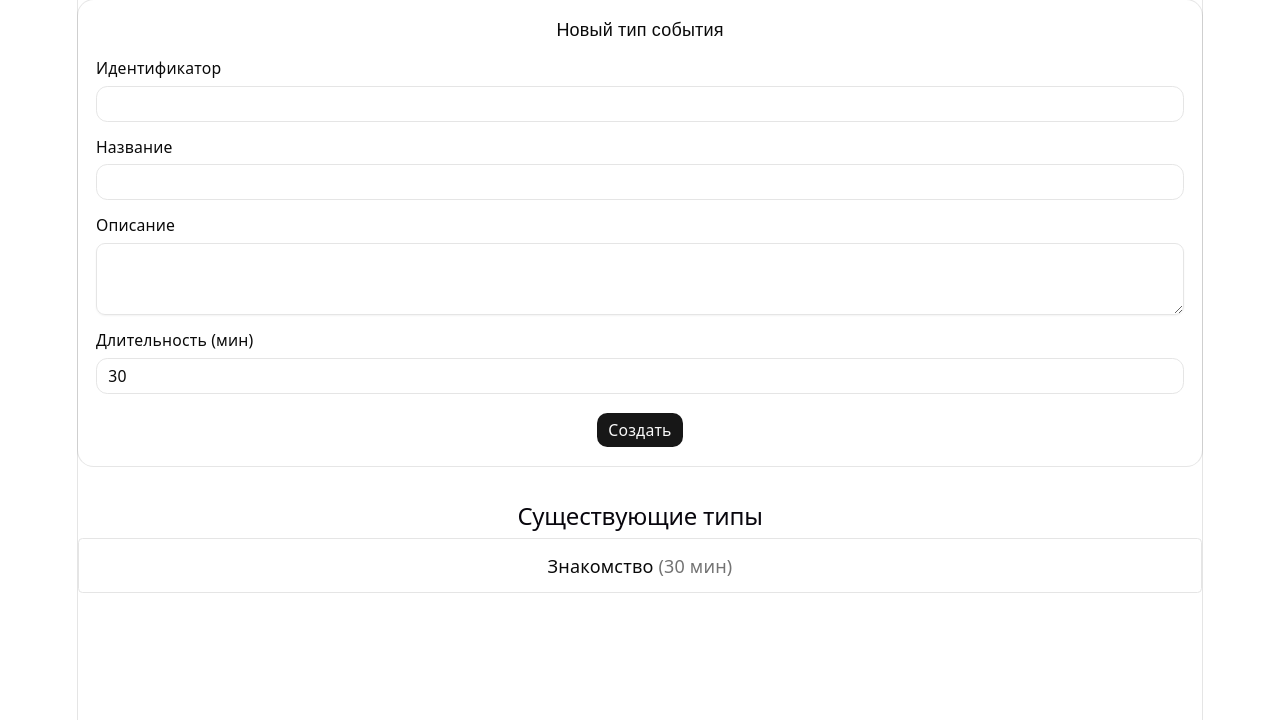
Test: OwnerEventTypesPage › creates a new event type and shows a success toast
In the field labelled "Идентификатор": [640, 104] box x1=96 y1=86 x2=1184 y2=122, type "demo-call"
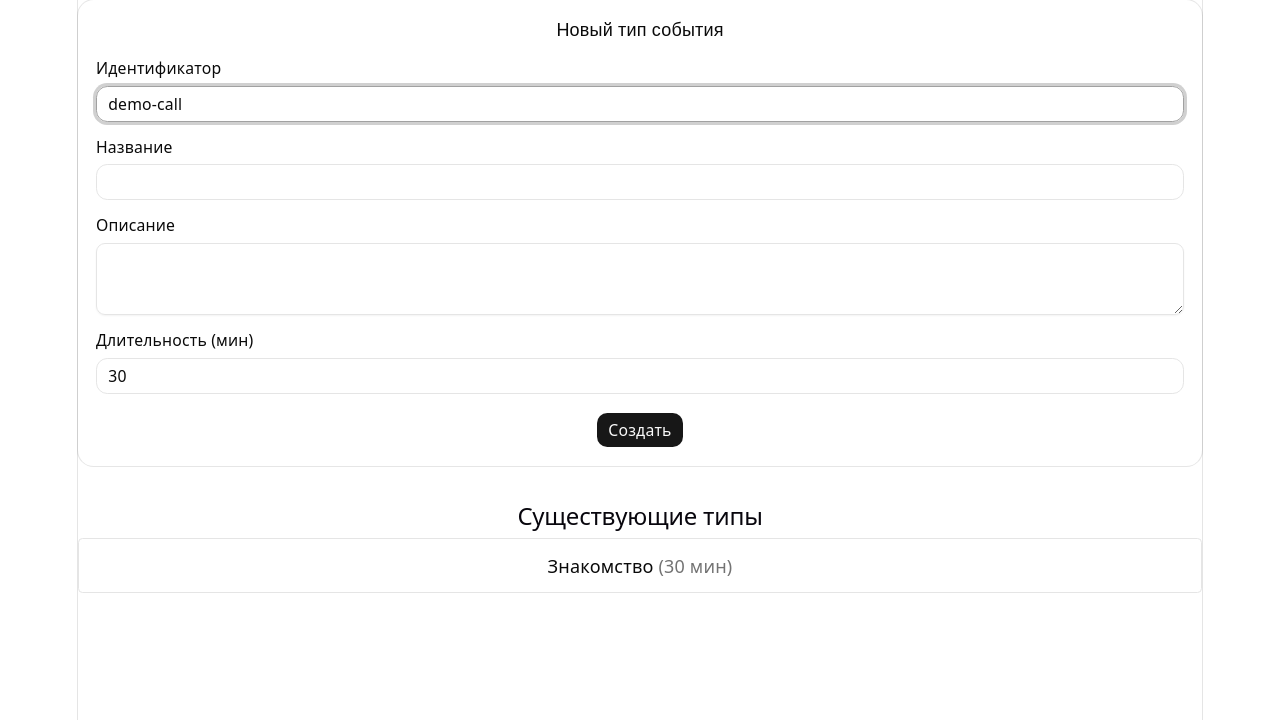
In the field labelled "Название": [640, 182] box x1=96 y1=164 x2=1184 y2=200, type "Демо"
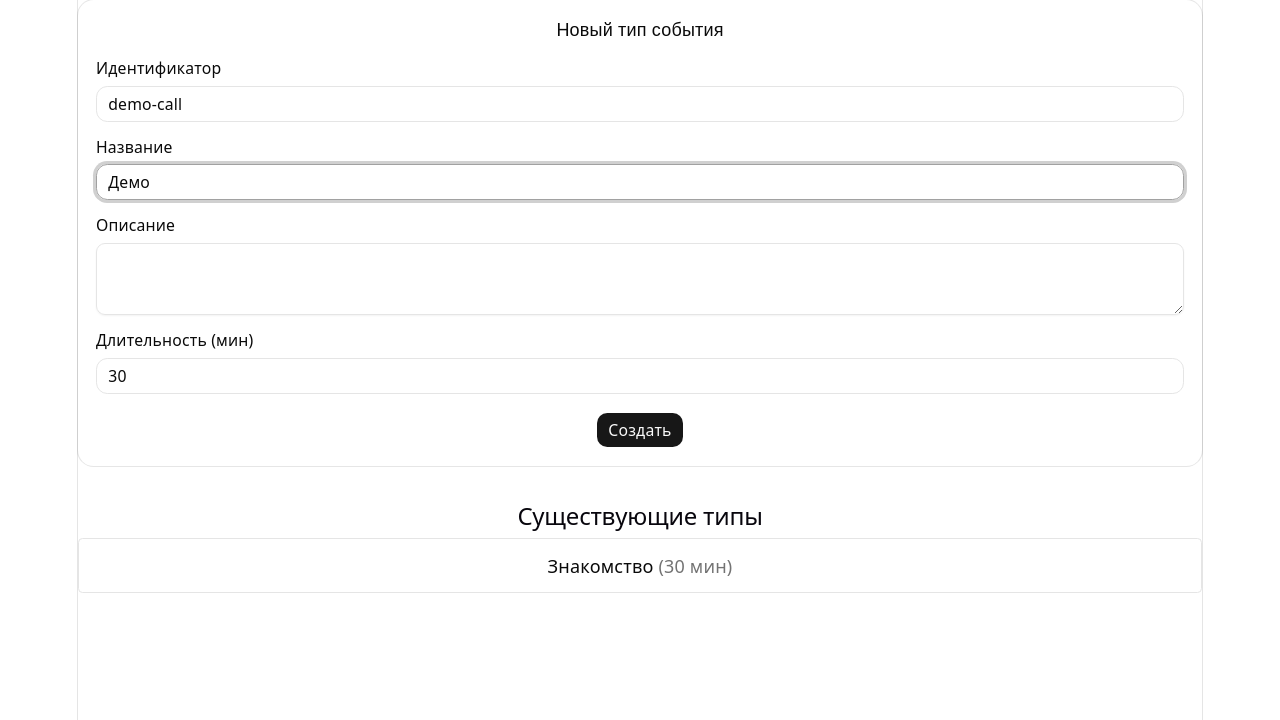
Replace the text in the number field labelled "Длительность (мин)" with "45": [640, 376] box x1=96 y1=358 x2=1184 y2=394
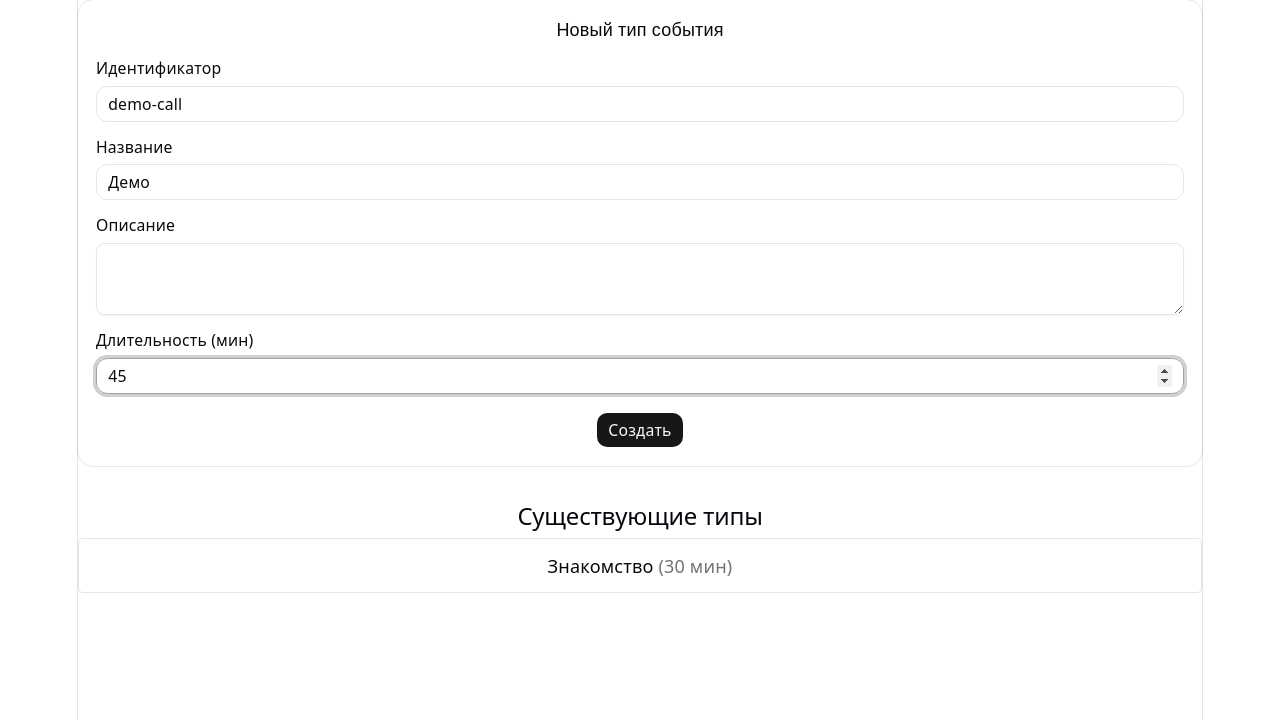
Click the button "Создать": [640, 430] box x1=596 y1=412 x2=684 y2=448
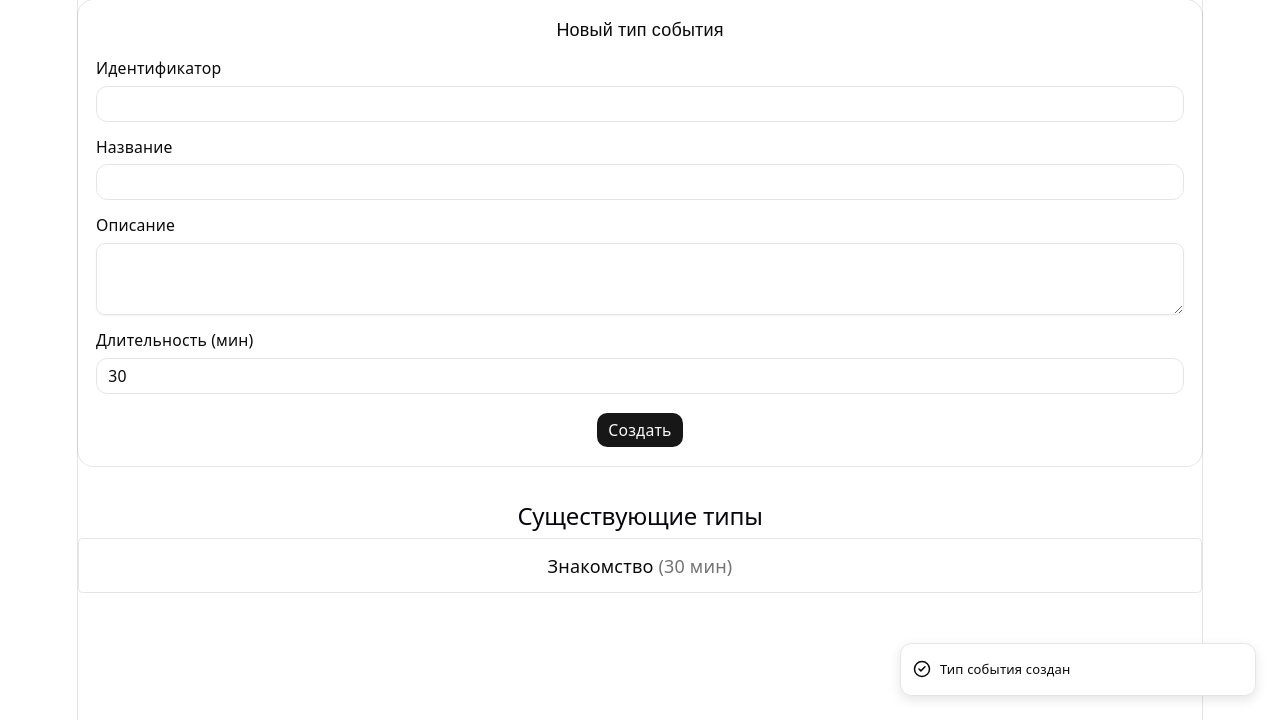
expect the text "Тип события создан" is shown: met, box x1=940 y1=660 x2=1070 y2=679
